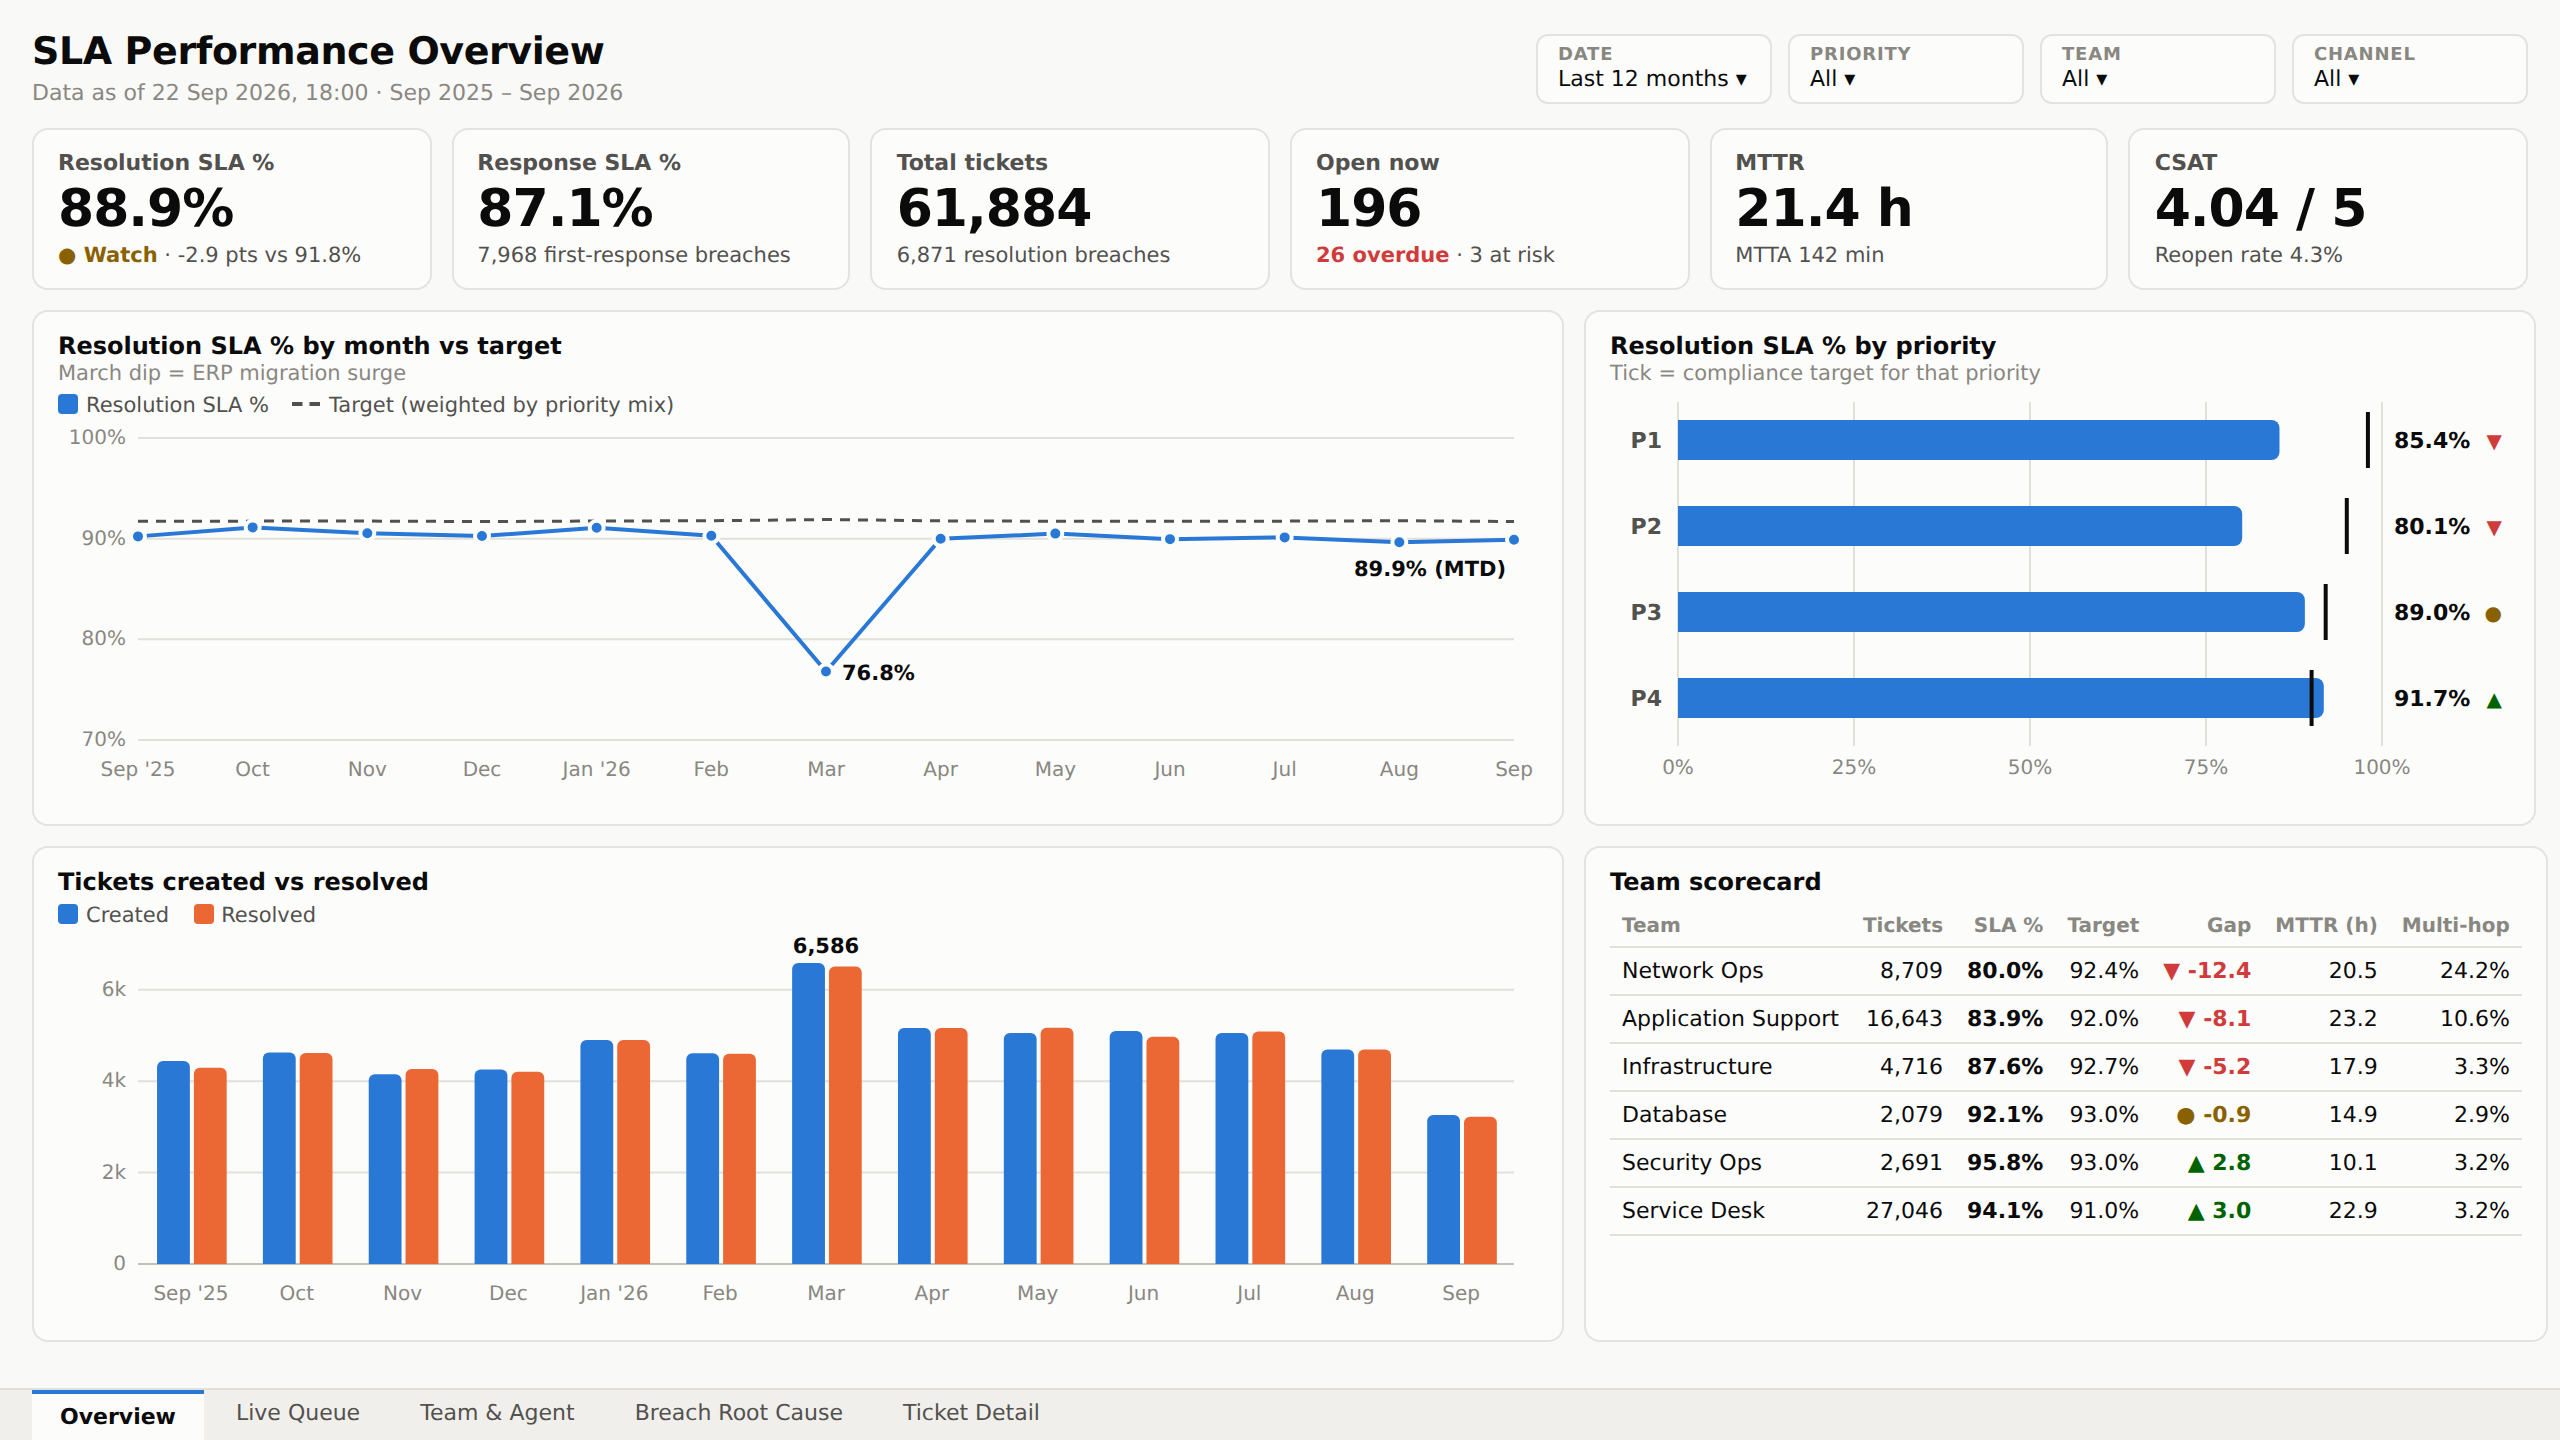

What the dashboard file says about the page in this screenshot:
{"tool":"powerbi","page":{"name":"Overview","canvas":[1280,764],"ordinal":0},"visuals":[{"type":"pageNavigator","box":[16,8,1248,34],"z":1000},{"type":"textbox","box":[12,44,640,46],"z":2000},{"type":"cardVisual","fields":{"Data":["_Measures.As Of Label"]},"box":[12,82,560,30],"z":3000},{"type":"slicer","fields":{"Values":["DimDate.Date"]},"box":[594,46,240,66],"z":4000},{"type":"slicer","fields":{"Values":["DimPriority.Priority"]},"box":[844,46,130,66],"z":5000},{"type":"slicer","fields":{"Values":["DimTeam.Team"]},"box":[984,46,150,66],"z":6000},{"type":"slicer","fields":{"Values":["FactTickets.Channel"]},"box":[1144,46,120,66],"z":7000},{"type":"cardVisual","fields":{"Data":["_Measures.Resolution SLA %"]},"box":[16,116,200,106],"z":8000},{"type":"cardVisual","fields":{"Data":["_Measures.Response SLA %"]},"box":[226,116,200,106],"z":9000},{"type":"cardVisual","fields":{"Data":["_Measures.Total Tickets"]},"box":[435,116,200,106],"z":10000},{"type":"cardVisual","fields":{"Data":["_Measures.Open Tickets"]},"box":[645,116,200,106],"z":11000},{"type":"cardVisual","fields":{"Data":["_Measures.MTTR (hrs)"]},"box":[854,116,200,106],"z":12000},{"type":"cardVisual","fields":{"Data":["_Measures.Avg CSAT"]},"box":[1064,116,200,106],"z":13000},{"type":"lineChart","title":"Resolution SLA % by month vs target","fields":{"Category":["DimDate.MonthLabel"],"Y":["_Measures.Resolution SLA %","_Measures.SLA Target %"]},"box":[16,230,760,258],"z":14000},{"type":"lineClusteredColumnComboChart","title":"Resolution SLA % by priority","fields":{"Category":["DimPriority.PriorityShort"],"Y":["_Measures.Resolution SLA %"],"Y2":["_Measures.SLA Target %"]},"box":[786,230,478,258],"z":15000},{"type":"clusteredColumnChart","title":"Tickets created vs resolved","fields":{"Category":["DimDate.MonthLabel"],"Y":["_Measures.Total Tickets","_Measures.Tickets Resolved (Resolved Date)"]},"box":[16,498,760,258],"z":16000},{"type":"tableEx","title":"Team scorecard","fields":{"Values":["DimTeam.Team","_Measures.Total Tickets","_Measures.Resolution SLA %","_Measures.SLA Target %","_Measures.SLA Gap Label","_Measures.MTTR (hrs)","_Measures.Multi-Hop %"]},"box":[786,498,478,258],"z":17000}]}

Visuals, with their boxes on the page's 1280x764 design canvas (x1, y1, x2, y2). These are canvas units, not pixel positions in the 2560x1440 screenshot, which may show the page scaled, cropped or inside an application window:
pageNavigator: region(16, 8, 1264, 42)
textbox: region(12, 44, 652, 90)
cardVisual - _Measures.As Of Label: region(12, 82, 572, 112)
slicer - DimDate.Date: region(594, 46, 834, 112)
slicer - DimPriority.Priority: region(844, 46, 974, 112)
slicer - DimTeam.Team: region(984, 46, 1134, 112)
slicer - FactTickets.Channel: region(1144, 46, 1264, 112)
cardVisual - _Measures.Resolution SLA %: region(16, 116, 216, 222)
cardVisual - _Measures.Response SLA %: region(226, 116, 426, 222)
cardVisual - _Measures.Total Tickets: region(435, 116, 635, 222)
cardVisual - _Measures.Open Tickets: region(645, 116, 845, 222)
cardVisual - _Measures.MTTR (hrs): region(854, 116, 1054, 222)
cardVisual - _Measures.Avg CSAT: region(1064, 116, 1264, 222)
"Resolution SLA % by month vs target" lineChart: region(16, 230, 776, 488)
"Resolution SLA % by priority" lineClusteredColumnComboChart: region(786, 230, 1264, 488)
"Tickets created vs resolved" clusteredColumnChart: region(16, 498, 776, 756)
"Team scorecard" tableEx: region(786, 498, 1264, 756)
